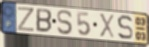5: (76, 11, 92, 37)
B: (35, 7, 53, 34)
S: (56, 9, 75, 37), (116, 14, 134, 41)
X: (99, 12, 116, 40)
Z: (17, 6, 35, 33)
